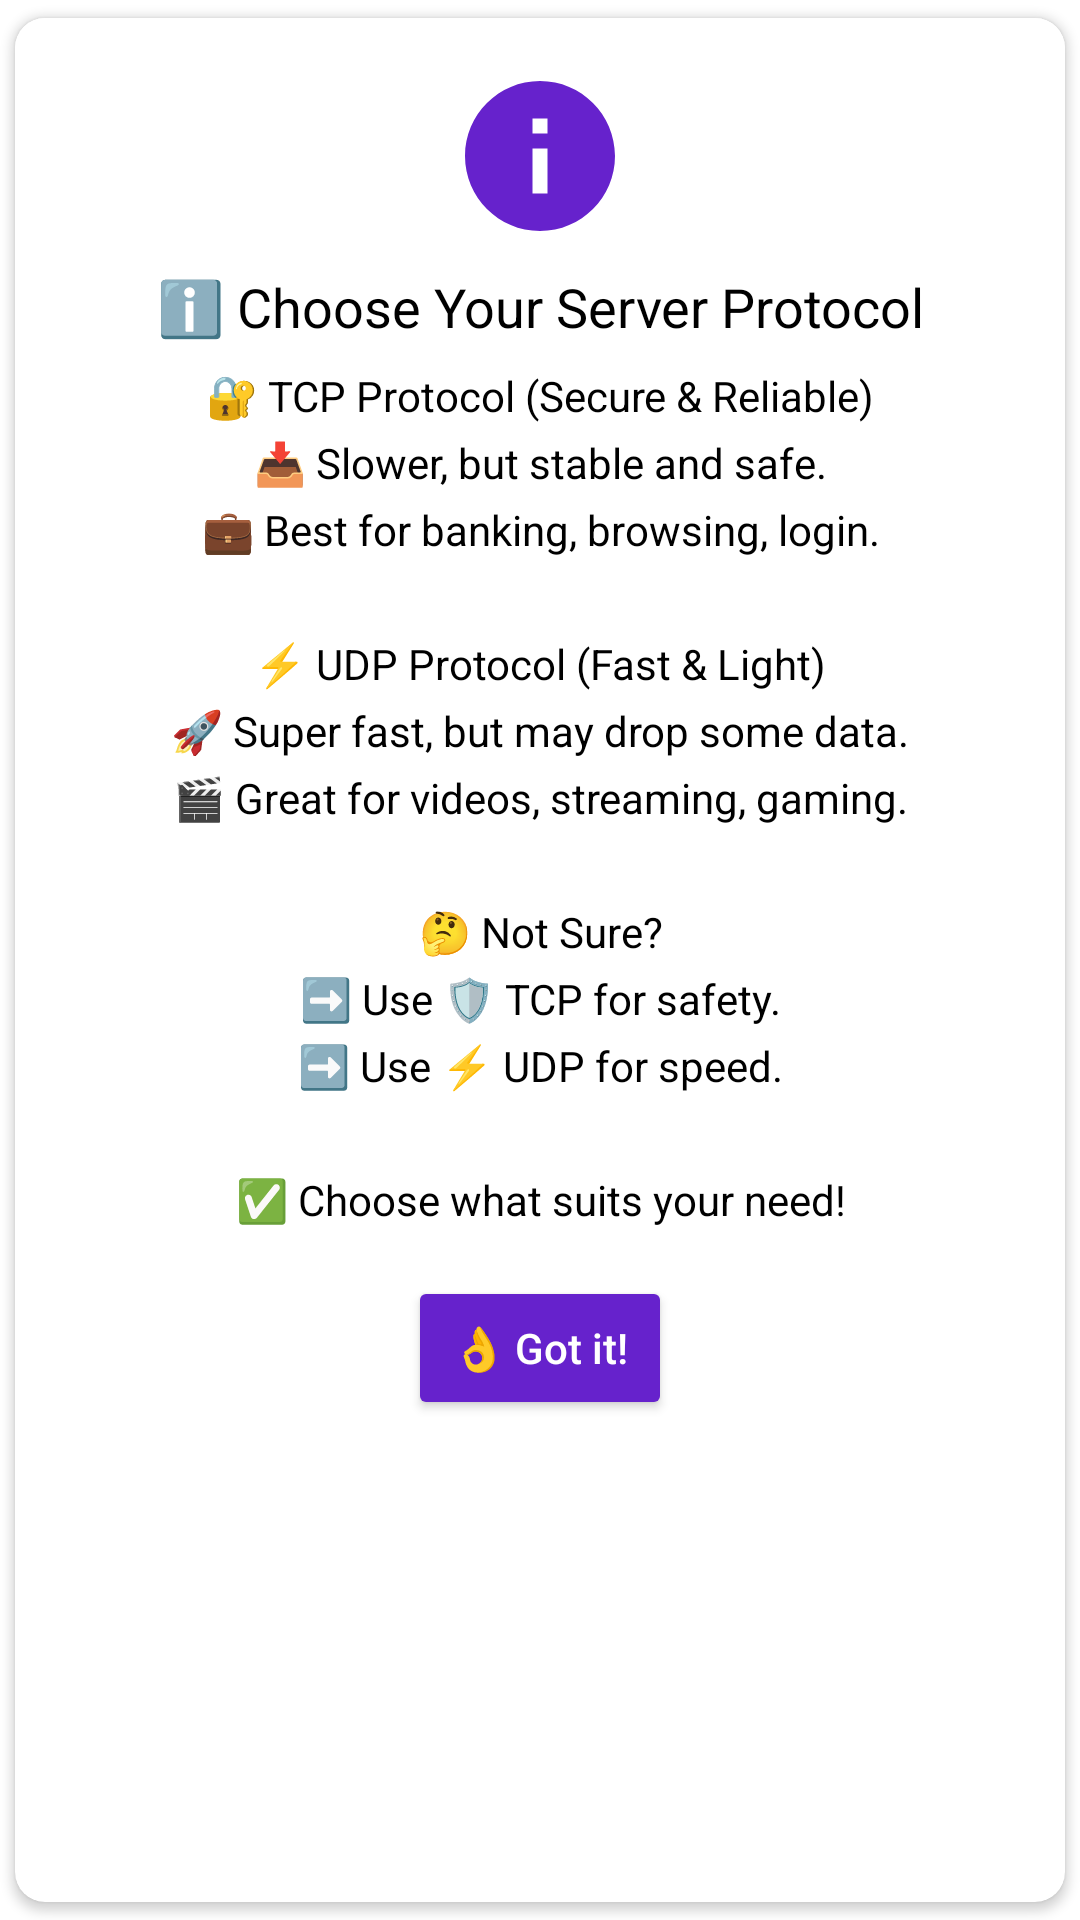

Where to tap for icons on this 1080 × 1920 app screen, as point (x, y):
info: point (540, 156)
